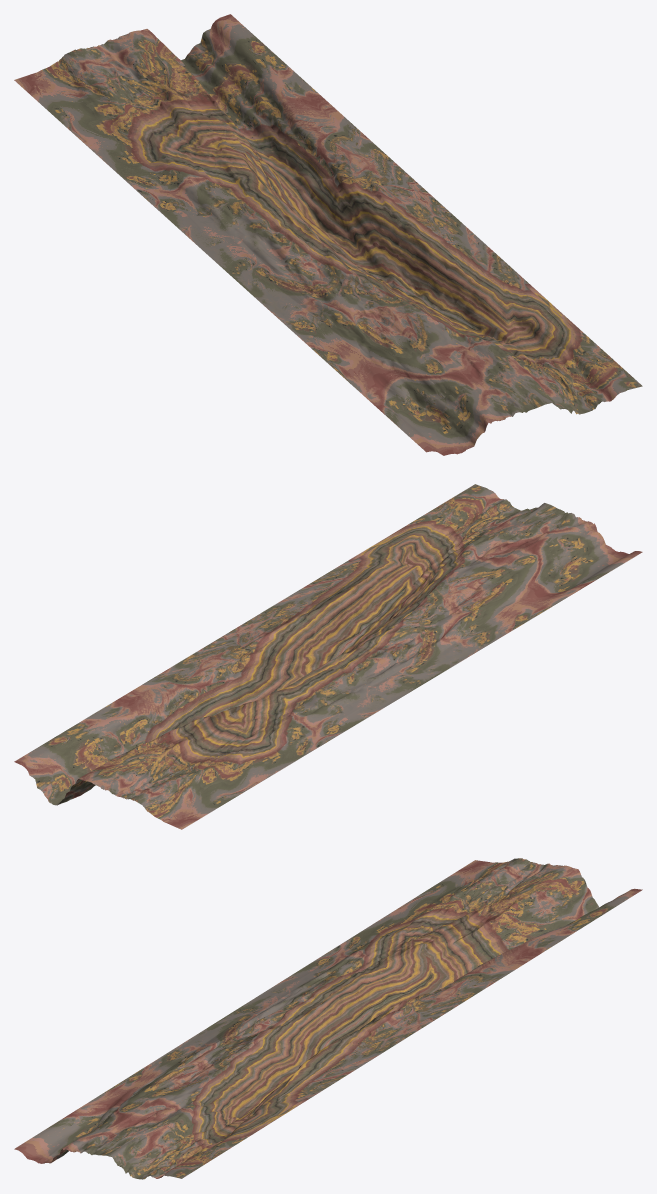
Rendered from crater10.glb.
3 views of the same model, one above another, from view 1: azimuth 30°, elevation 25°; view 2: azimuth 150°, elevation 25°; view 3: azimuth 330°, elevation 25° (orthographic). The views are drawn at different scales.
Parts seen in each view (by area): view 1: Landscape.006; view 2: Landscape.006; view 3: Landscape.006.
Boxes of the visible parts, x1,y1,x2,y2 form: Landscape.006: (14, 14, 642, 455); Landscape.006: (14, 484, 642, 829); Landscape.006: (14, 858, 642, 1179).
Bounding box in the file's own units: 116 × 22.55 × 359.
Materials: 1 (1 with a texture image).
